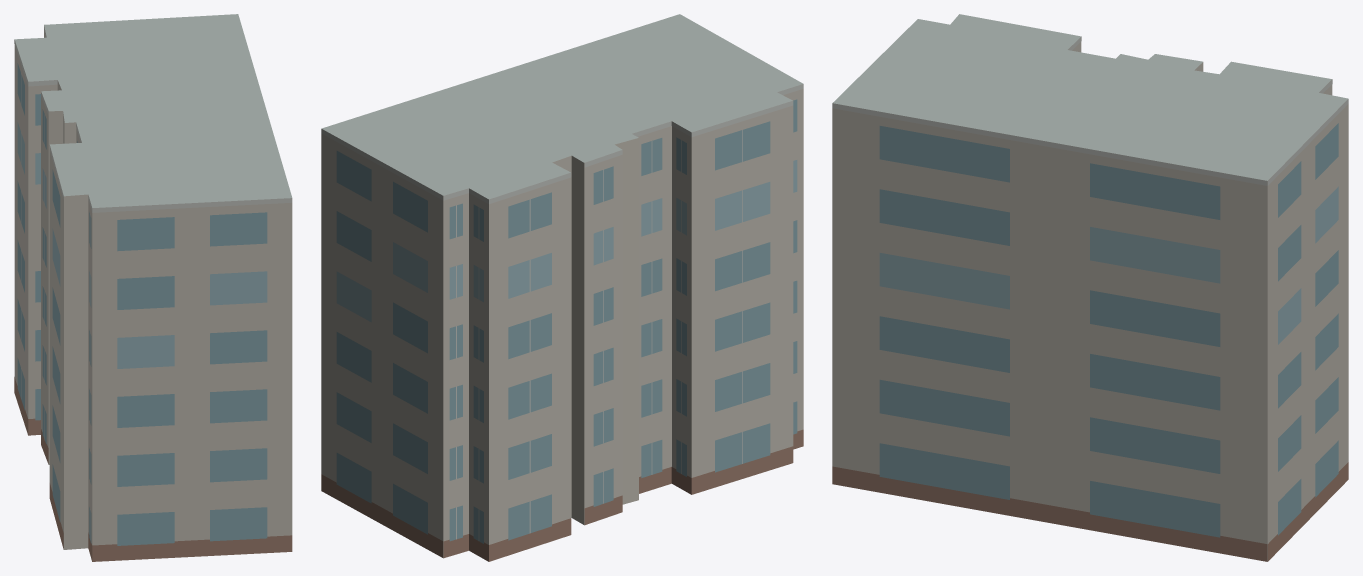
Rendered from survey-upis-33044571.glb.
The picture shows the model from 3 angles, left to right: view 1: azimuth 30°, elevation 25°; view 2: azimuth 150°, elevation 25°; view 3: azimuth 270°, elevation 25°; orthographic projection. The views are drawn at different scales.
Parts seen in each view (by area): view 1: survey-upis-33044571.tmp; view 2: survey-upis-33044571.tmp; view 3: survey-upis-33044571.tmp.
Part boxes in pixels (<box>): survey-upis-33044571.tmp: <box>14,14,292,561</box>; survey-upis-33044571.tmp: <box>321,14,803,561</box>; survey-upis-33044571.tmp: <box>832,14,1348,561</box>.
Bounding box in the file's own units: 17.2 × 18.3 × 22.48.
